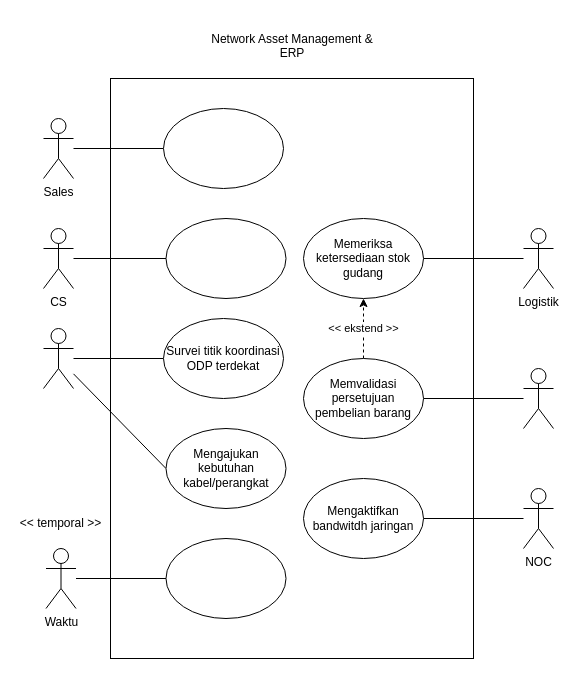
Image size: 577x676. Some labels were removed from this diagram. Here are the shapes that lost their labels. From the top down, the centre of each, then its label:
point 223,148: Migrasi data prospek hot ke ERP
point 225,258: Cek ketersediaan jaringan awal
point 58,358: Teknisi
point 538,398: Finance
point 225,578: Memicu otomatisasi siklus penagihan pascabayar
